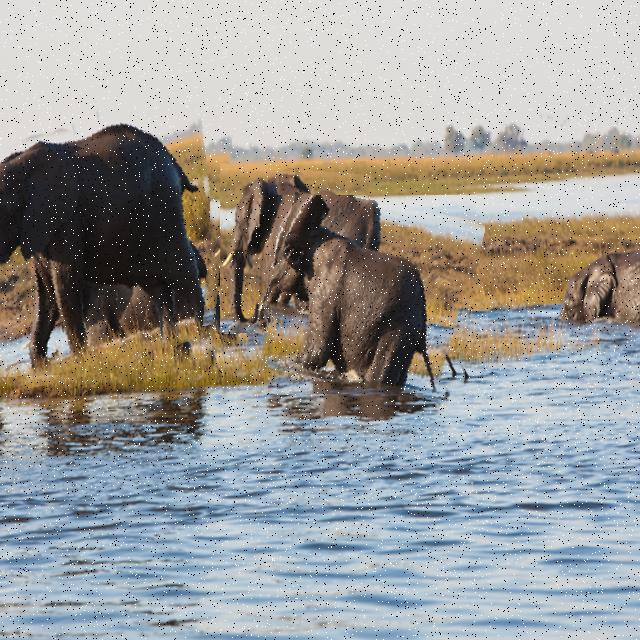elephant: (0, 110, 236, 378), (268, 195, 477, 395), (220, 163, 371, 333)
